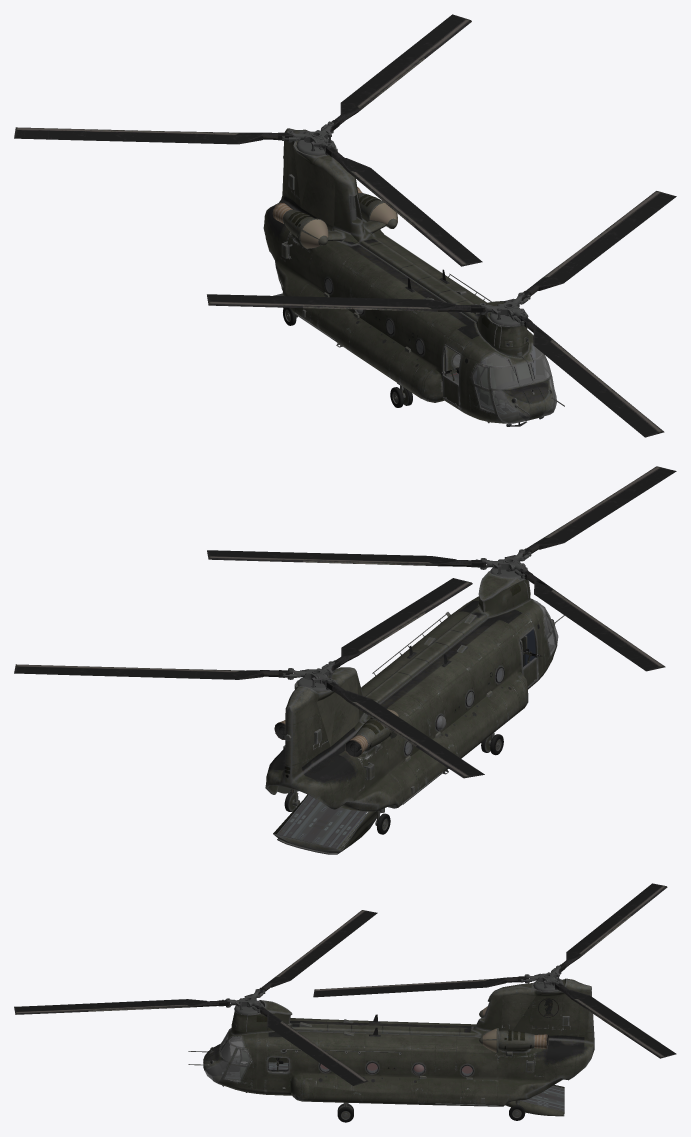
Rendered from helicopter.glb.
3 views of the same model, one above another, from view 1: azimuth 30°, elevation 25°; view 2: azimuth 150°, elevation 25°; view 3: azimuth 270°, elevation 25° (orthographic). The views are drawn at different scales.
Visible parts, largest first — view 1: Chassis, RearRotor, FrontRotor; view 2: Chassis, FrontRotor, RearRotor, Ramp; view 3: Chassis, RearRotor, FrontRotor, Ramp.
Part boxes in pixels (left/top/right/bottom): Chassis: left=263, top=128, right=564, bottom=426; RearRotor: left=14, top=14, right=482, bottom=266; FrontRotor: left=207, top=191, right=676, bottom=437; Chassis: left=265, top=568, right=564, bottom=834; FrontRotor: left=207, top=466, right=676, bottom=671; RearRotor: left=14, top=578, right=484, bottom=778; Ramp: left=273, top=794, right=380, bottom=854; Chassis: left=188, top=978, right=594, bottom=1122; RearRotor: left=313, top=883, right=676, bottom=1058; FrontRotor: left=14, top=910, right=377, bottom=1085; Ramp: left=505, top=1085, right=564, bottom=1116.
Size of the model in its own units: 25.06 by 8.96 by 39.41.
Materials: 3 (3 with a texture image).
